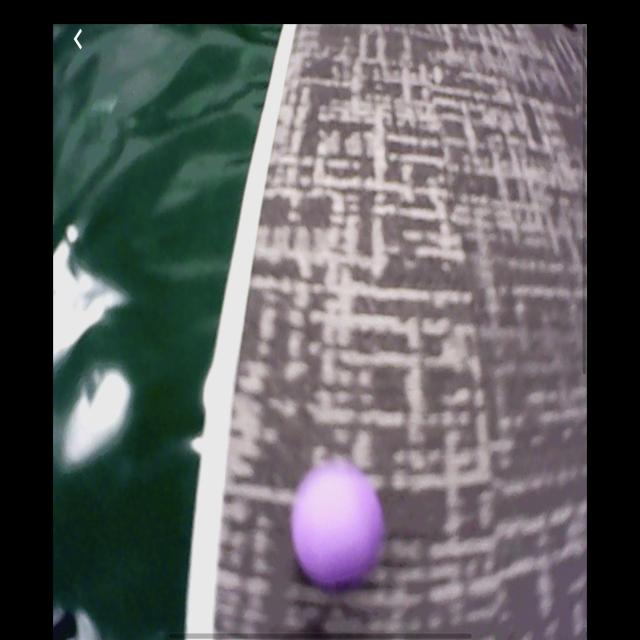ball: (292, 462, 384, 586)
